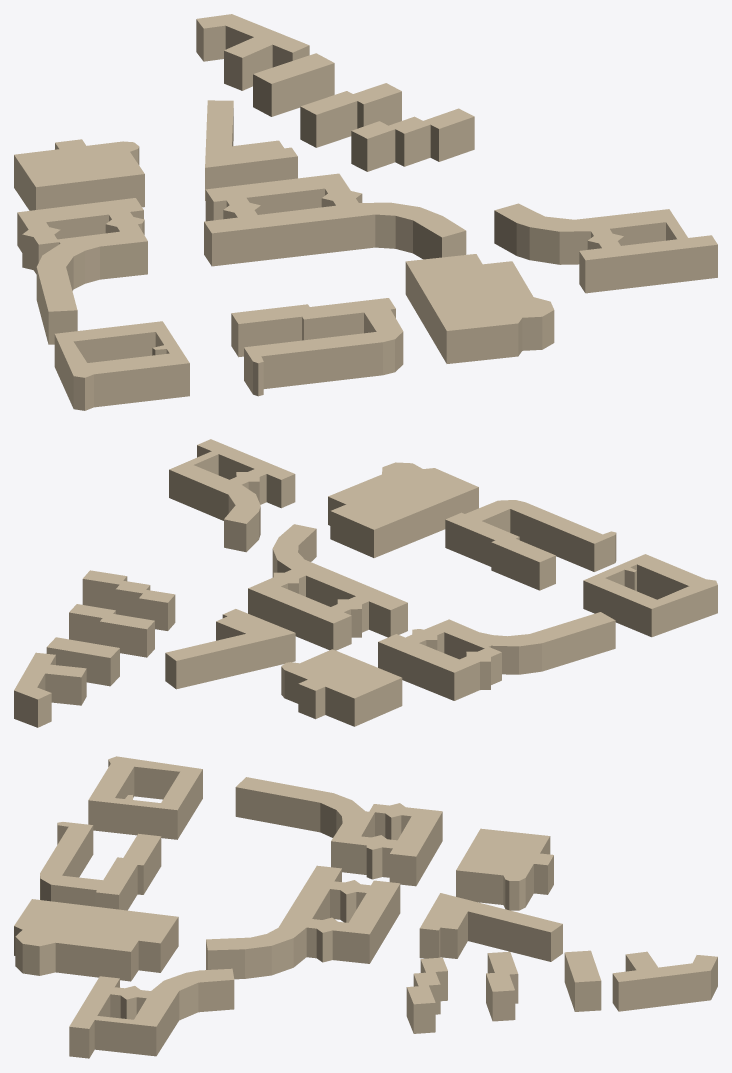
File: -20_13-estimated-coarse.glb
3 views of the same model, one above another, from view 1: azimuth 30°, elevation 25°; view 2: azimuth 150°, elevation 25°; view 3: azimuth 270°, elevation 25° (orthographic). The views are drawn at different scales.
Size of the model in its own units: 296 by 15 by 323.
